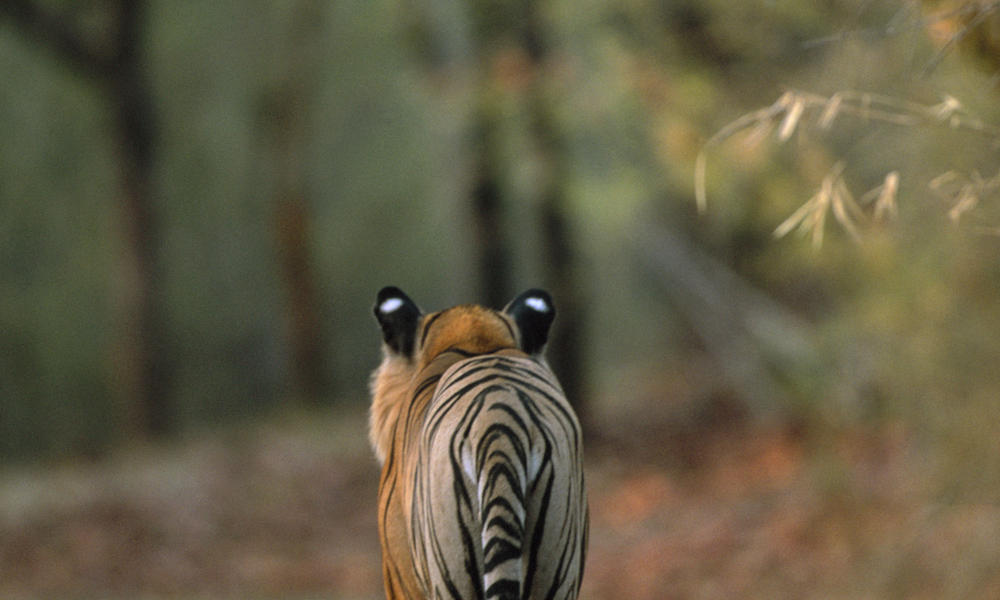tiger: (366, 284, 593, 600)
